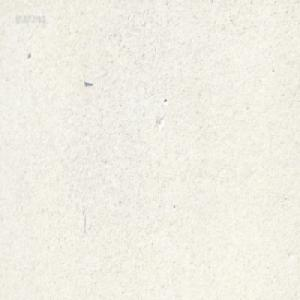Nail: (83, 79, 93, 84)
